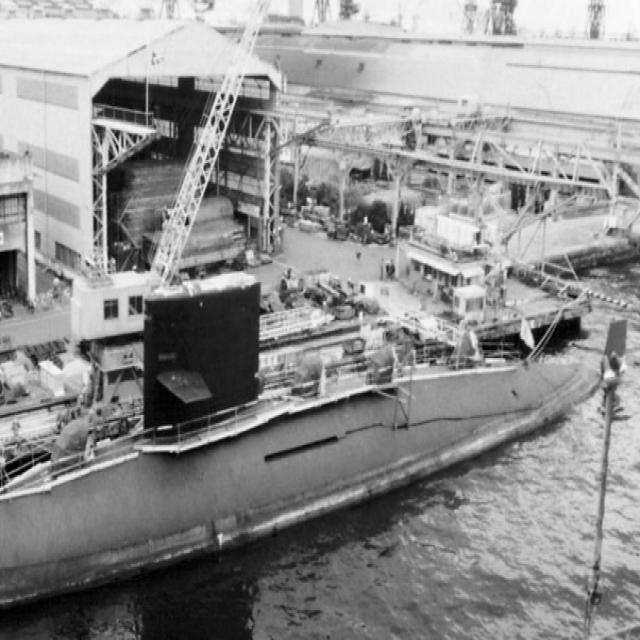submarine: (1, 277, 637, 636)
